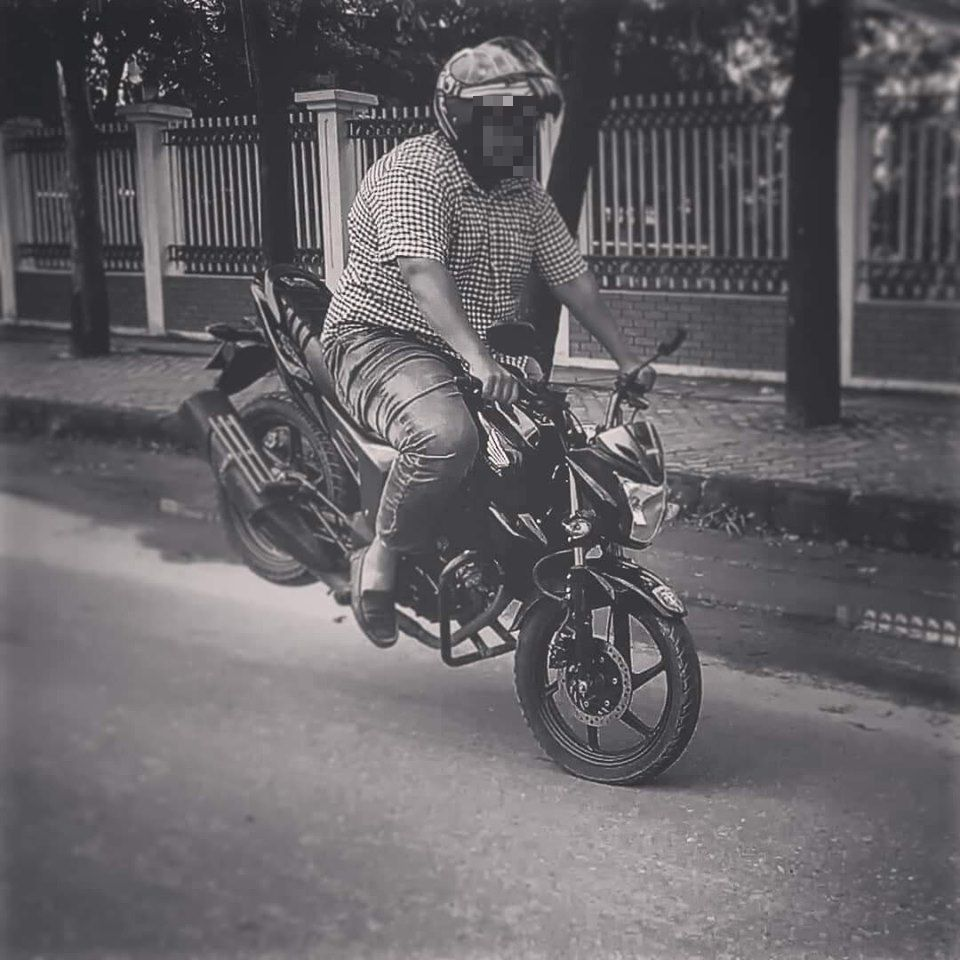bike: (181, 273, 709, 785)
